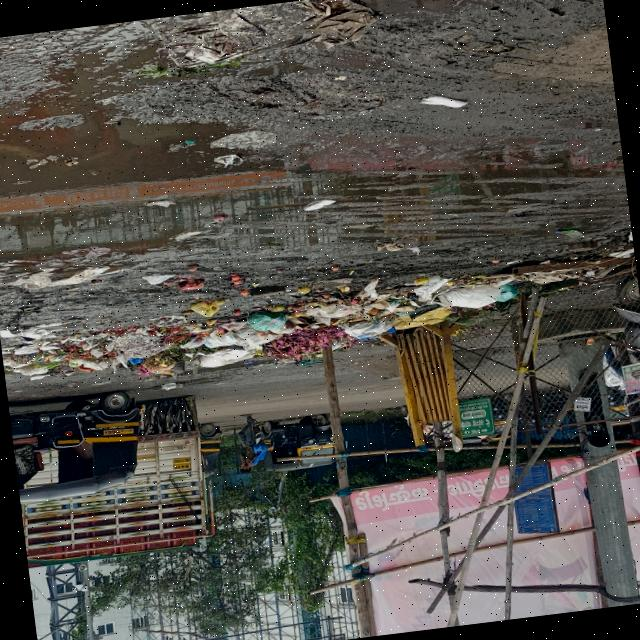garbage: (9, 264, 558, 394)
